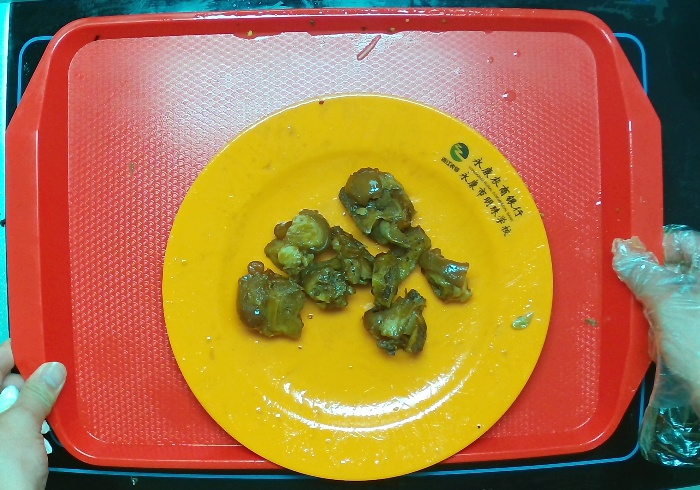YKMZ-Ju_Se_Mian_Pan: (148, 82, 557, 490)
